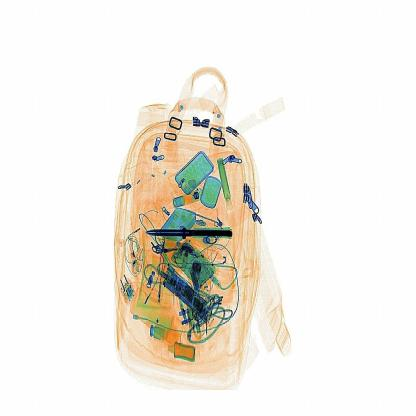gun: (145, 216, 240, 245)
